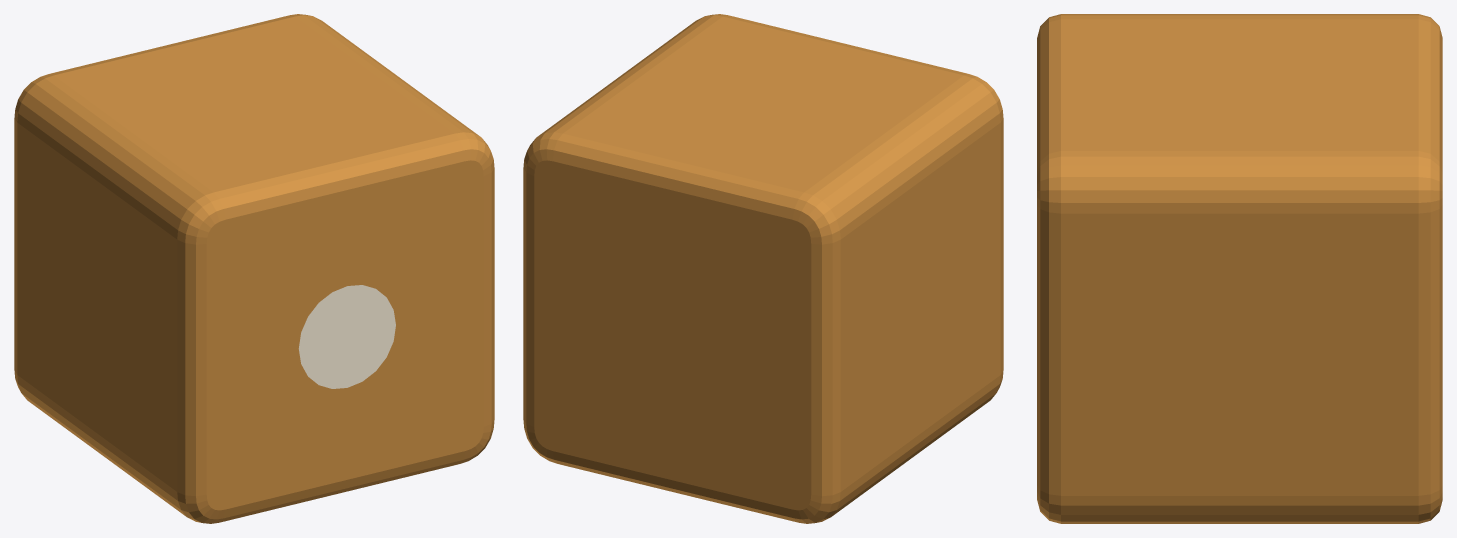
Rendered from budget-marker-1.glb.
3 renders of one model, left to right at view 1: azimuth 30°, elevation 25°; view 2: azimuth 150°, elevation 25°; view 3: azimuth 270°, elevation 25°, orthographic. The views are drawn at different scales.
Visible parts, largest first — view 1: budget-marker-1; view 2: budget-marker-1; view 3: budget-marker-1.
Boxes of the visible parts, x1,y1,x2,y2 form: budget-marker-1: [14, 14, 494, 523]; budget-marker-1: [523, 14, 1003, 523]; budget-marker-1: [1037, 14, 1442, 523].
Bounding box in the file's own units: 0.008 × 0.008 × 0.0081.
